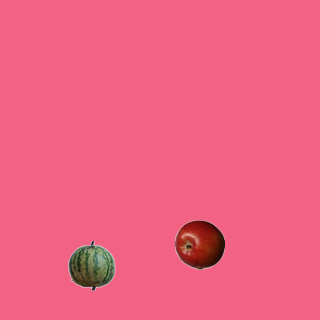Apple Braeburn: (174, 219, 224, 269)
Watermelon: (66, 240, 116, 290)
